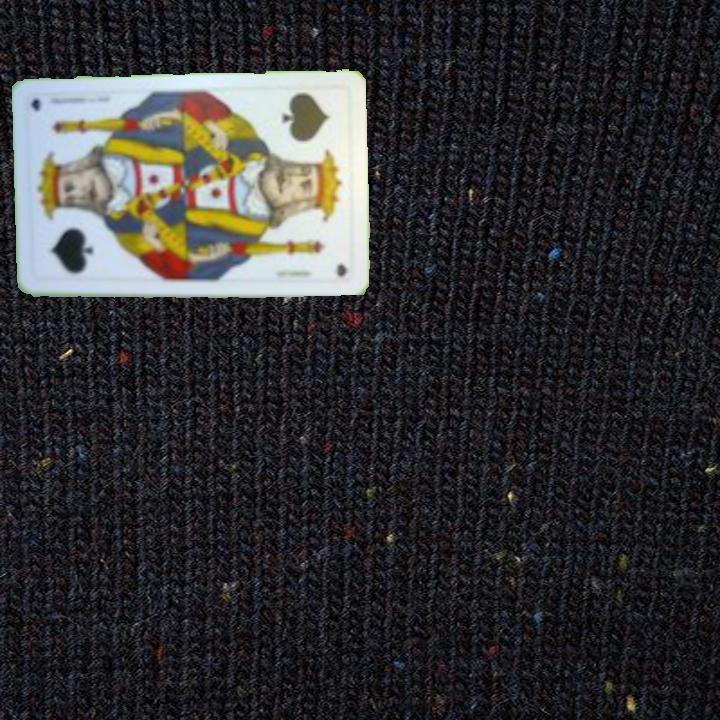s_k.png: (30, 185, 119, 287), (264, 84, 352, 186)
